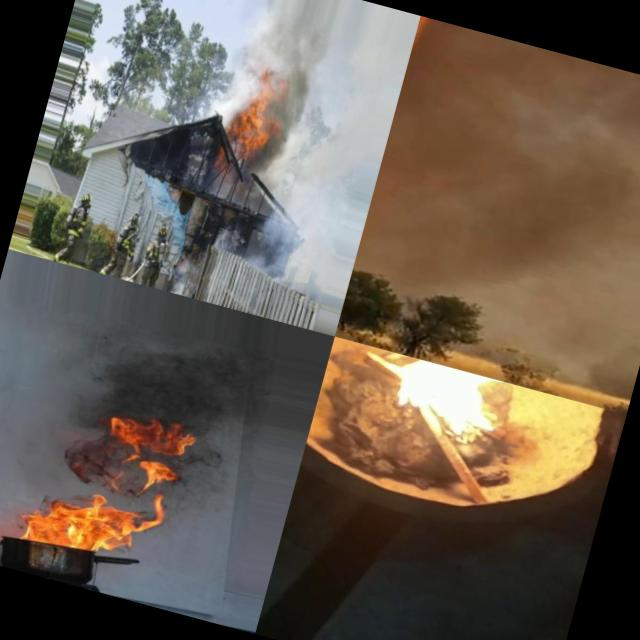fire: (1, 466, 189, 578), (380, 353, 529, 457), (110, 412, 197, 506), (210, 83, 282, 174), (415, 16, 442, 40), (406, 33, 422, 72)
smoke: (374, 21, 640, 348), (78, 321, 260, 452), (246, 34, 372, 198), (247, 180, 333, 286), (352, 156, 403, 276), (56, 420, 124, 489), (573, 337, 640, 397), (232, 25, 282, 94)
